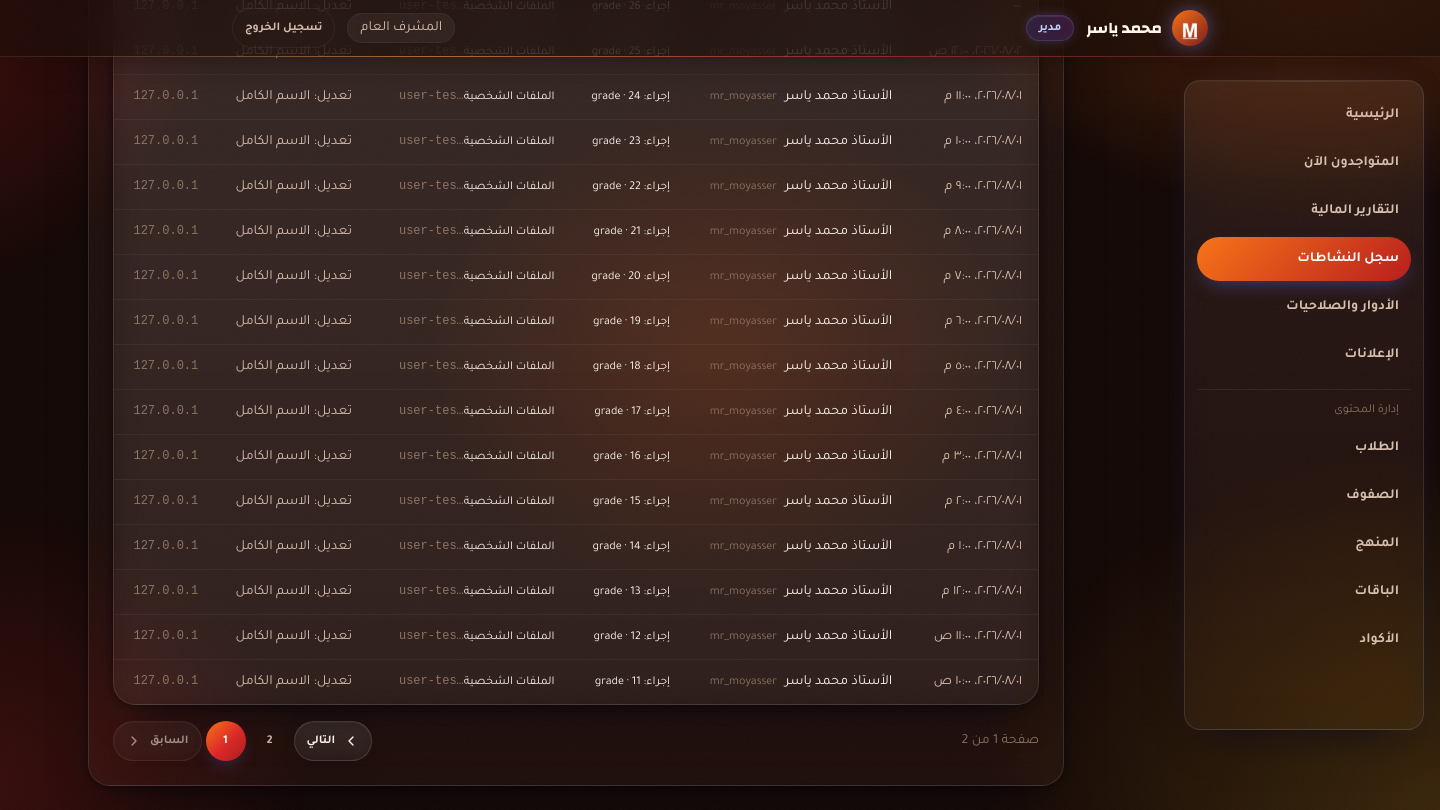
Scenario: AuditLogPage › pages through more than one page of rows
The width and height of the screenshot is (1440, 810).
(page scrolled)
Check: the text "صفحة 1 من 2" is shown, box [962,731,1039,751]
Click the button "التالي" at [333, 741], box [294,721,372,761]
(page scrolled)
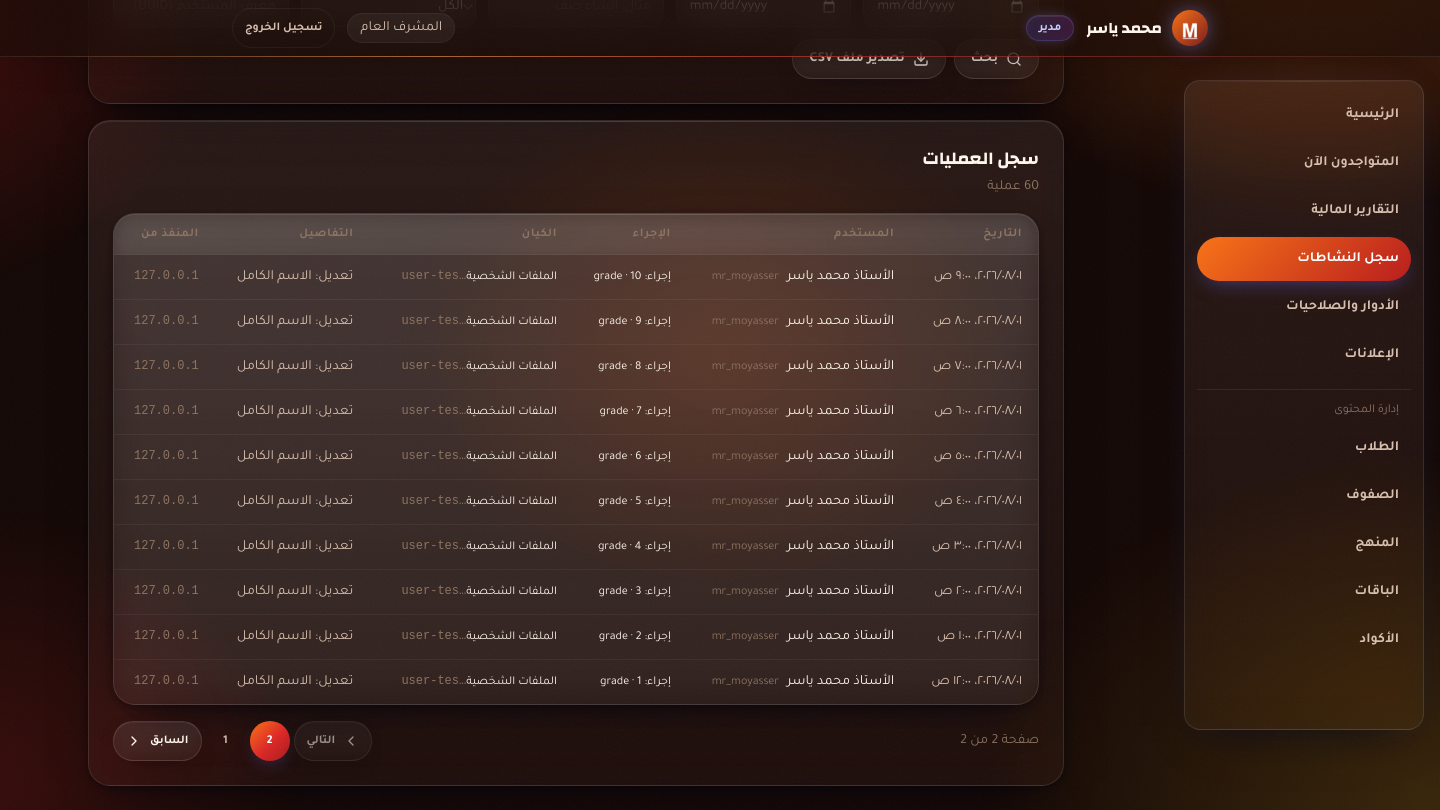
Check: the text "صفحة 2 من 2" is shown, box [960,731,1039,751]
Check: the row with test id "audit-row-audit-1" is shown, box [114,660,1038,704]
Click the button "السابق" at [157, 741], box [113,721,202,761]
(page scrolled)
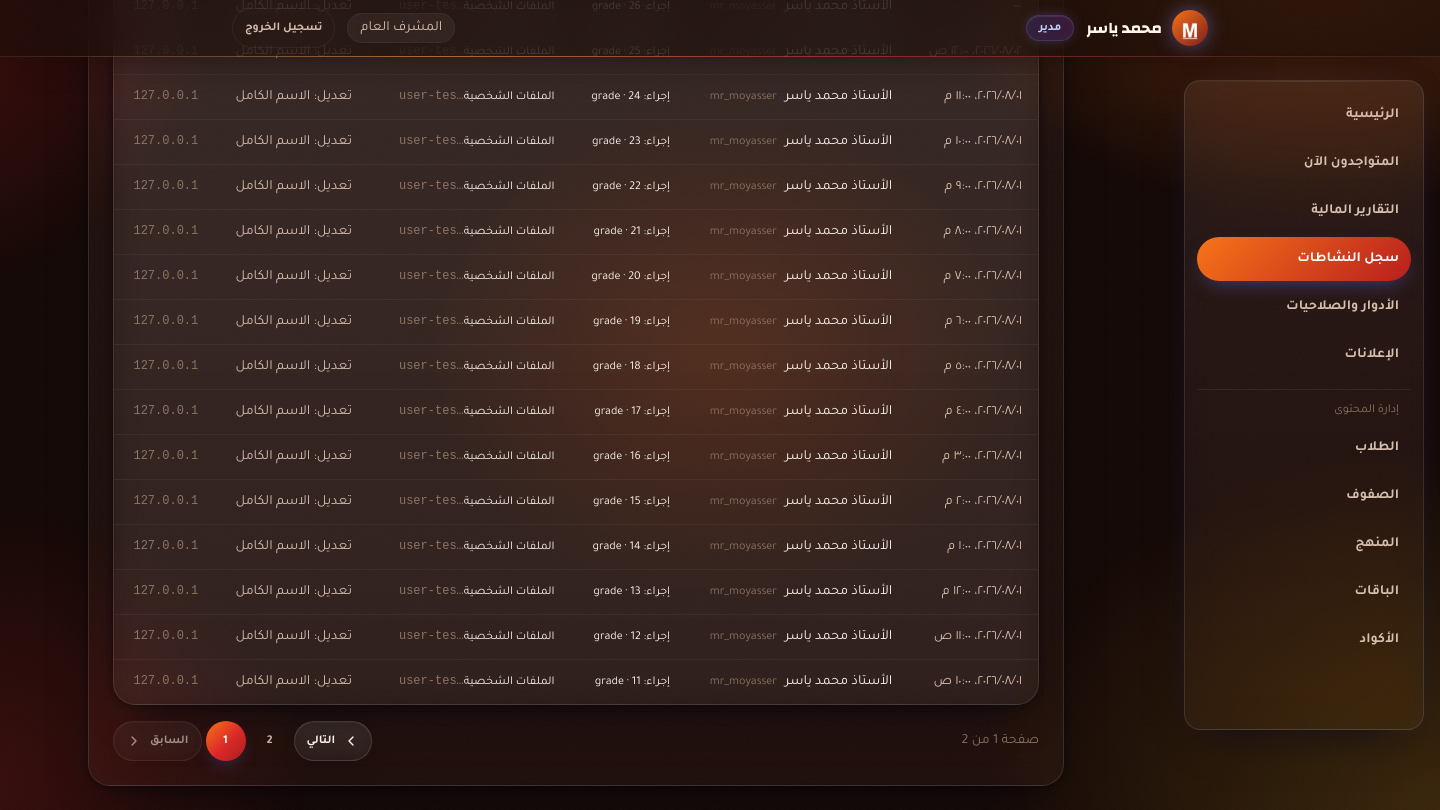
Check: the text "صفحة 1 من 2" is shown, box [962,731,1039,751]
